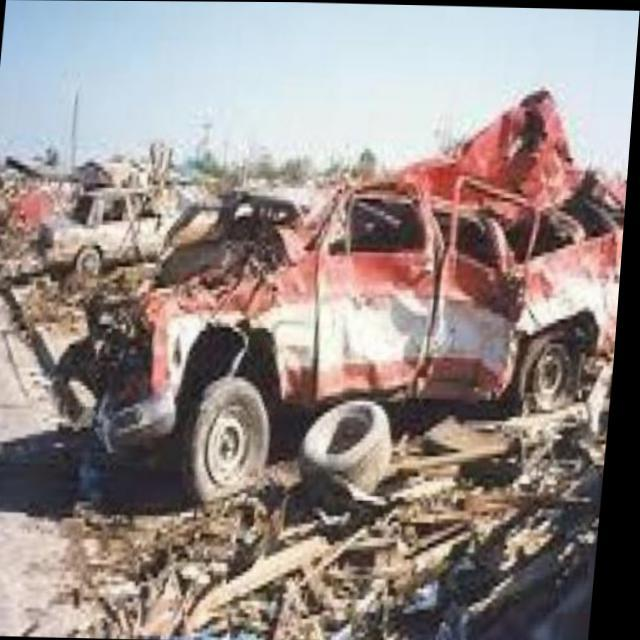crash: (99, 90, 629, 448)
